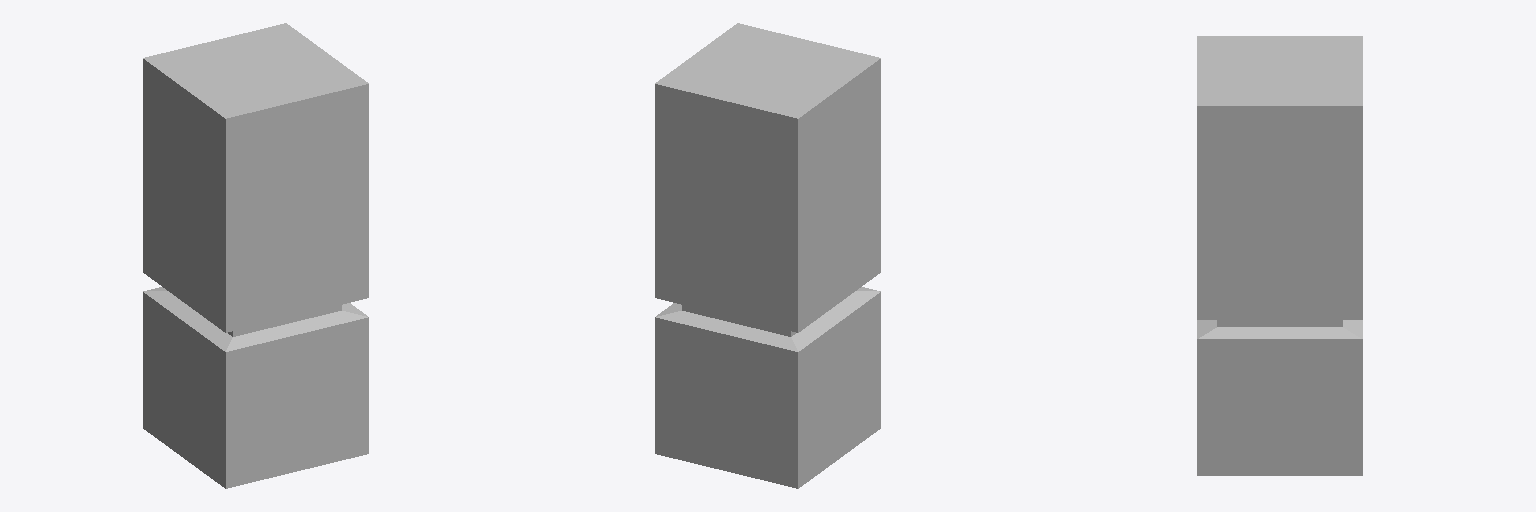
The model's file is Dark_Square_Tall_Solid.obj.
3 renders of one model, left to right at view 1: azimuth 30°, elevation 25°; view 2: azimuth 150°, elevation 25°; view 3: azimuth 270°, elevation 25°, orthographic.
Visible parts, largest first — view 1: Dark_Square_Tall_Solid; view 2: Dark_Square_Tall_Solid; view 3: Dark_Square_Tall_Solid.
Boxes of the visible parts, x1,y1,x2,y2 form: Dark_Square_Tall_Solid: [143, 23, 368, 488]; Dark_Square_Tall_Solid: [655, 23, 880, 488]; Dark_Square_Tall_Solid: [1197, 36, 1362, 475].
Bounding box in the file's own units: 0.65 × 1.6 × 0.65.